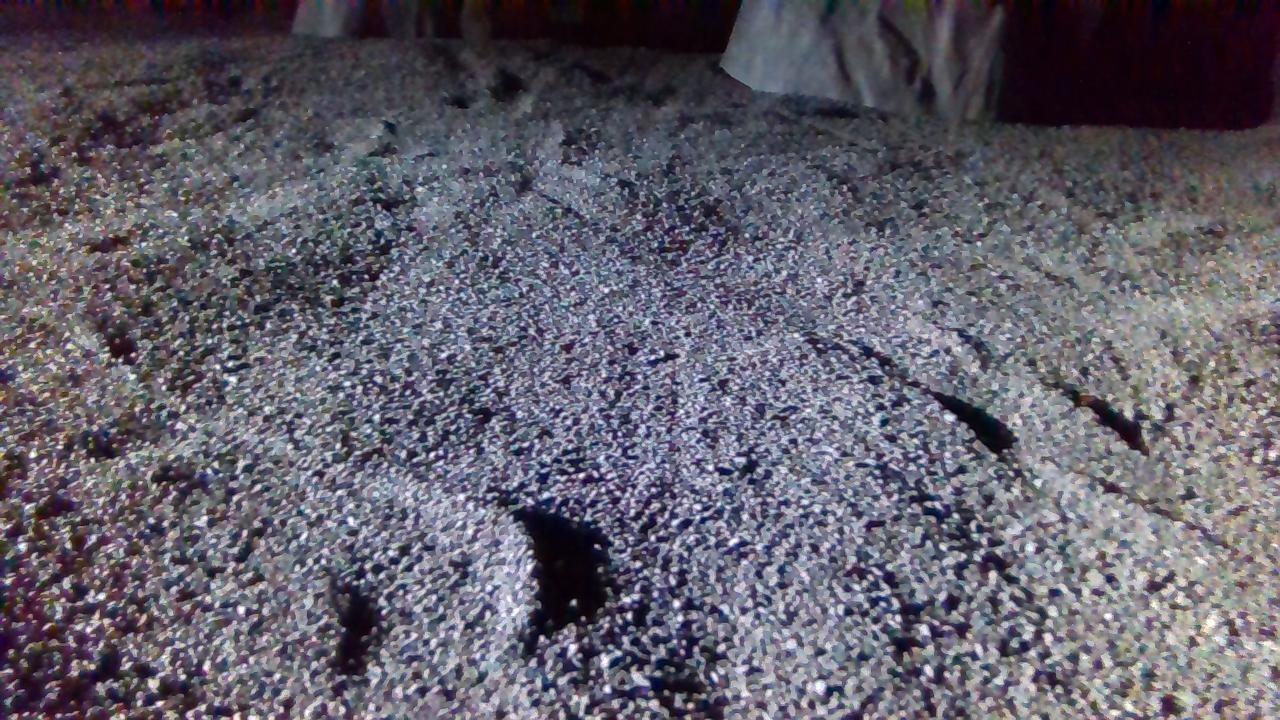rock: (723, 0, 1006, 120), (292, 0, 490, 37)
